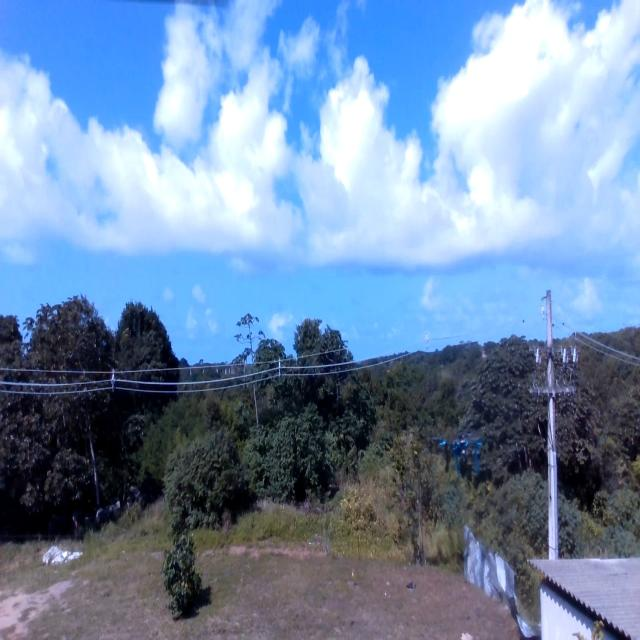-uav-: (436, 428, 491, 493)
